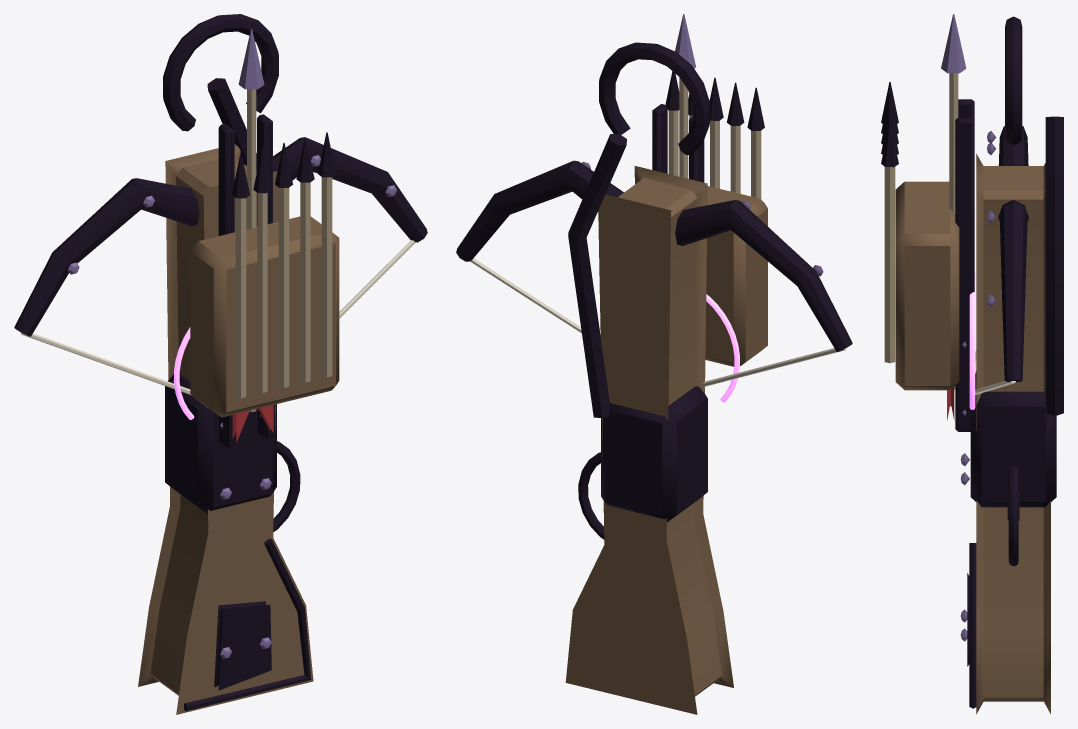
Rendered from fa_veilpiercer.glb.
The picture shows the model from 3 angles, left to right: view 1: azimuth 30°, elevation 25°; view 2: azimuth 150°, elevation 25°; view 3: azimuth 270°, elevation 25°; orthographic projection. The views are drawn at different scales.
Parts seen in each view (by area): view 1: fa_veilpiercer; view 2: fa_veilpiercer; view 3: fa_veilpiercer.
Boxes of the visible parts, <box> form: fa_veilpiercer: <box>14,14,427,714</box>; fa_veilpiercer: <box>456,14,852,714</box>; fa_veilpiercer: <box>881,14,1063,713</box>.
Size of the model in its own units: 0.6216 by 0.98 by 0.2441.
